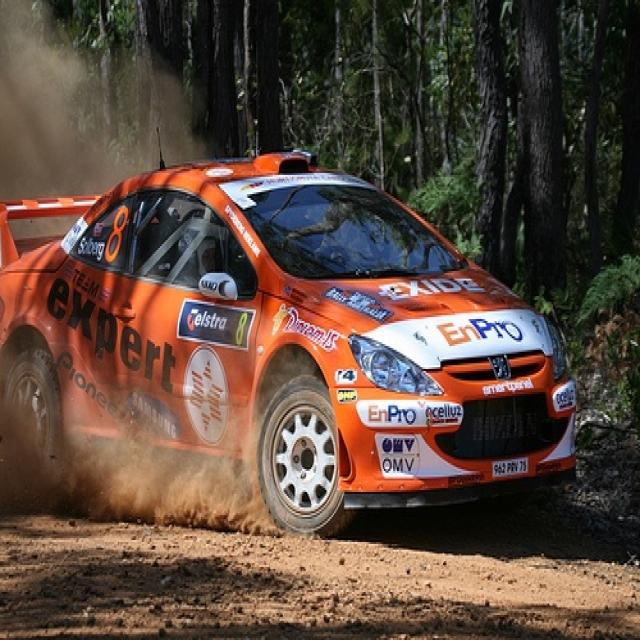car: (0, 146, 580, 538)
